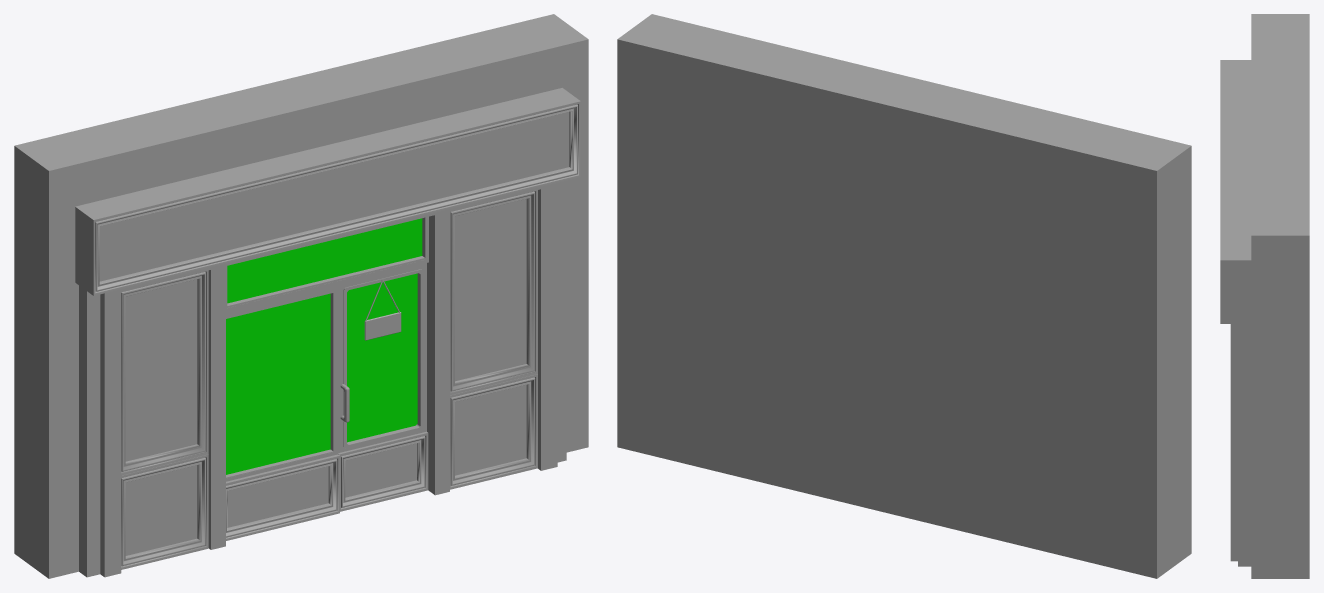
The model's file is SM_Devanture_3_sansparesoleil.fbx.
3 views of the same model, side by side, from view 1: azimuth 30°, elevation 25°; view 2: azimuth 150°, elevation 25°; view 3: azimuth 270°, elevation 25° (orthographic). The views are drawn at different scales.
Visible parts, largest first — view 1: pCube45, pCube56, polySurface15, pCube53, pCube50, polySurface17, polySurface19, pCube54, polySurface20, polySurface12, pCube51, pCube52 (+7 smaller); view 2: pCube45; view 3: pCube45, pCube56, polySurface20, polySurface19.
Boxes of the visible parts, x1=… form: pCube45: x1=14, y1=14, x2=588, y2=578; pCube56: x1=75, y1=88, x2=580, y2=295; polySurface15: x1=226, y1=284, x2=338, y2=481; pCube53: x1=121, y1=270, x2=208, y2=475; pCube50: x1=450, y1=190, x2=537, y2=395; polySurface17: x1=338, y1=263, x2=426, y2=452; polySurface19: x1=100, y1=183, x2=557, y2=577; pCube54: x1=208, y1=211, x2=449, y2=549; polySurface20: x1=79, y1=180, x2=566, y2=577; polySurface12: x1=226, y1=217, x2=428, y2=311; pCube51: x1=450, y1=374, x2=537, y2=489; pCube52: x1=121, y1=454, x2=208, y2=569; pCube45: x1=617, y1=14, x2=1191, y2=578; pCube45: x1=1251, y1=14, x2=1309, y2=578; pCube56: x1=1220, y1=60, x2=1251, y2=323; polySurface20: x1=1238, y1=324, x2=1251, y2=566; polySurface19: x1=1230, y1=324, x2=1237, y2=561.
Bounding box in the file's own units: 900 × 650 × 153.
